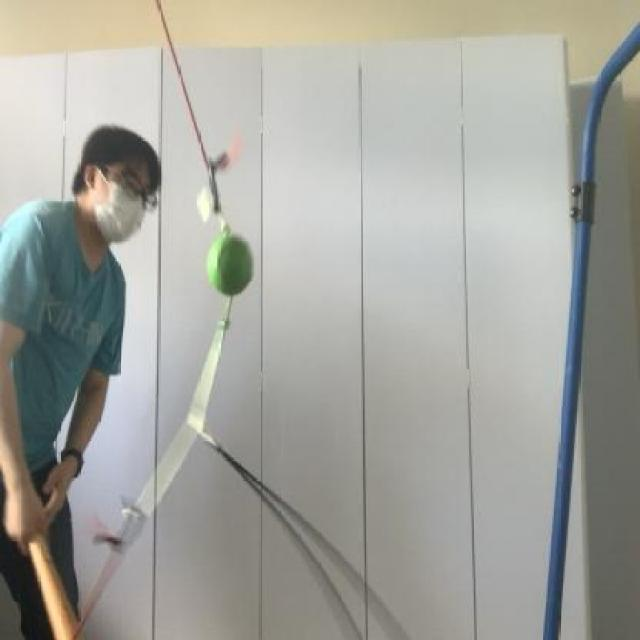baseball: (200, 224, 254, 296)
